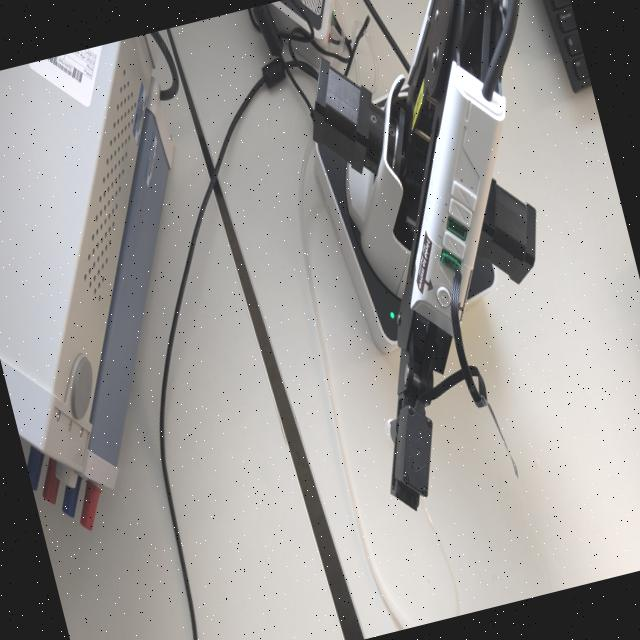Robot-end-effector-HF8z: (368, 392, 458, 520)
